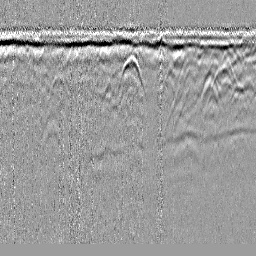cavity: (118, 53, 146, 100)
